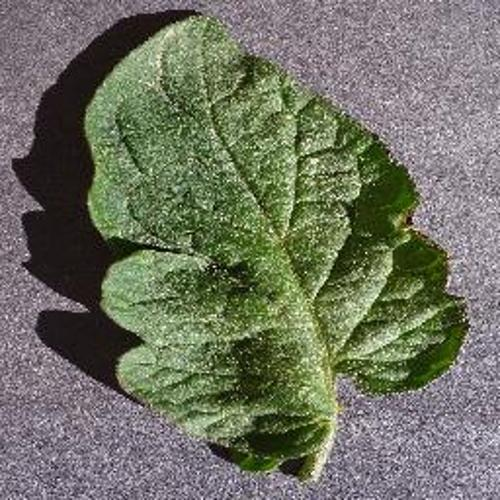Tomato: (84, 15, 466, 477)
